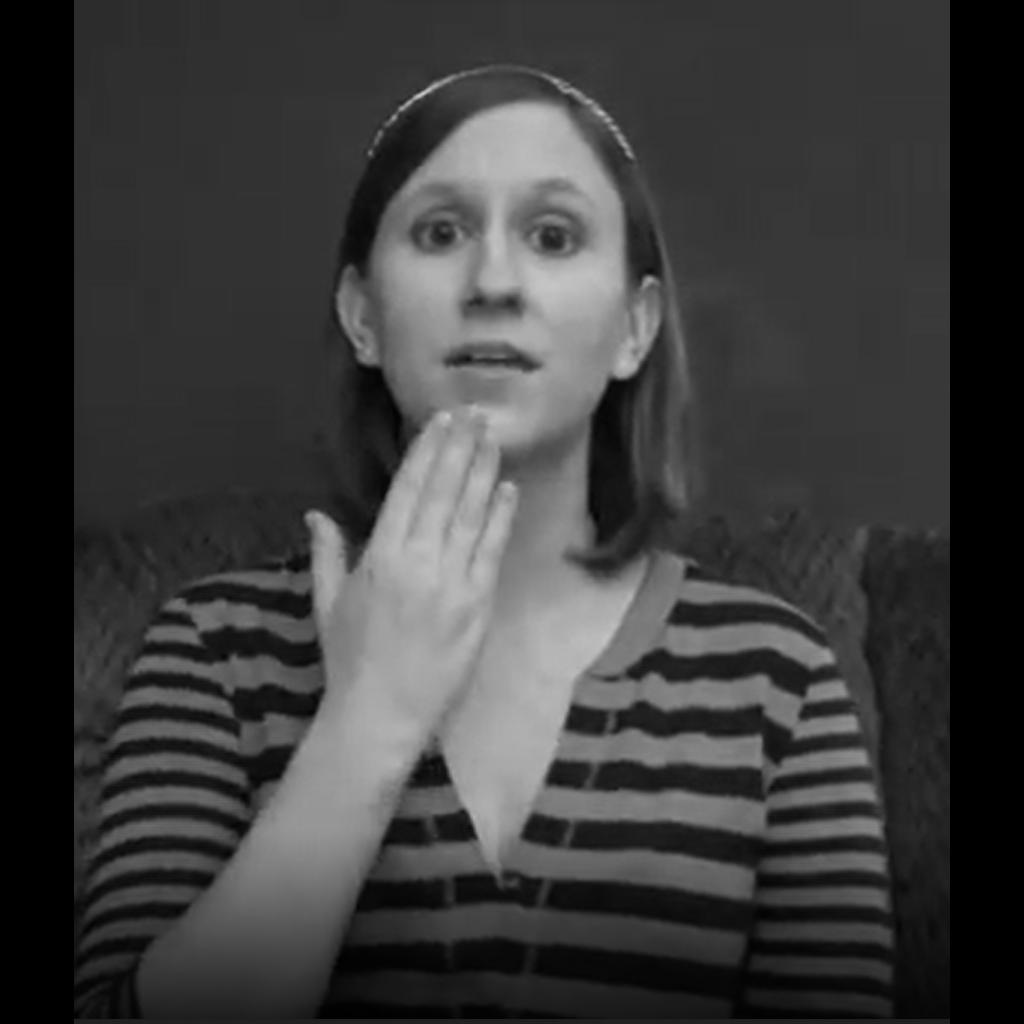thank-you: (306, 404, 520, 718)
